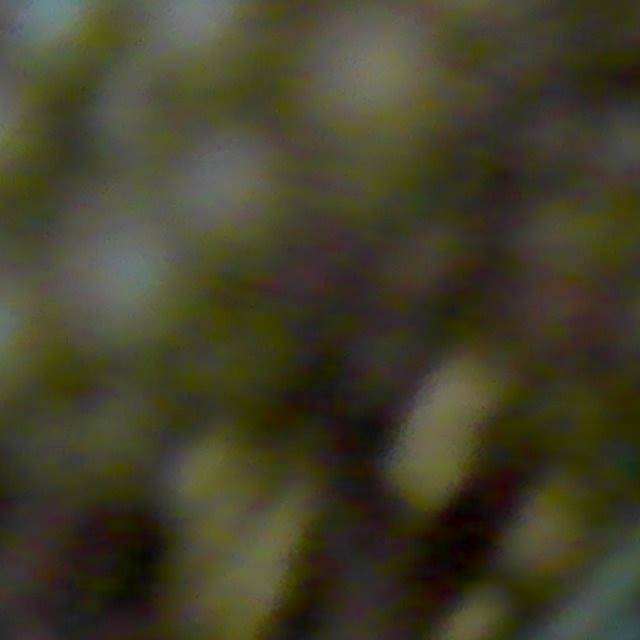SeaGrape: (286, 0, 440, 161), (46, 208, 189, 354), (171, 134, 296, 266), (132, 0, 270, 107), (78, 76, 171, 169)
